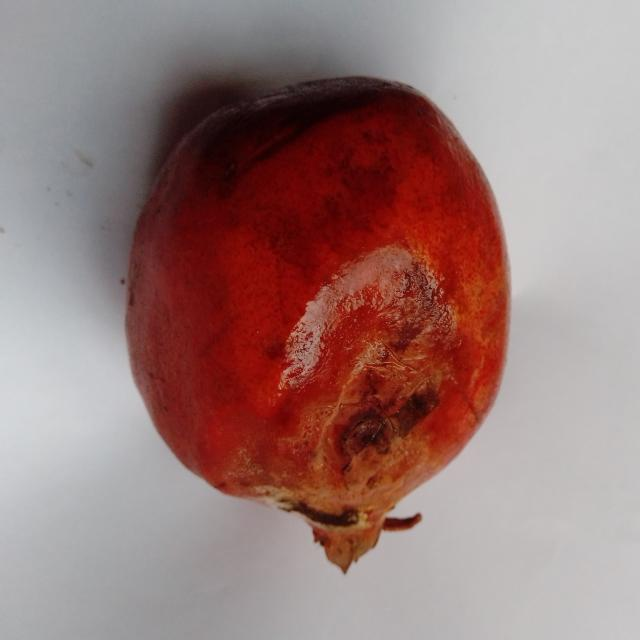Rotten: (120, 74, 514, 573)
